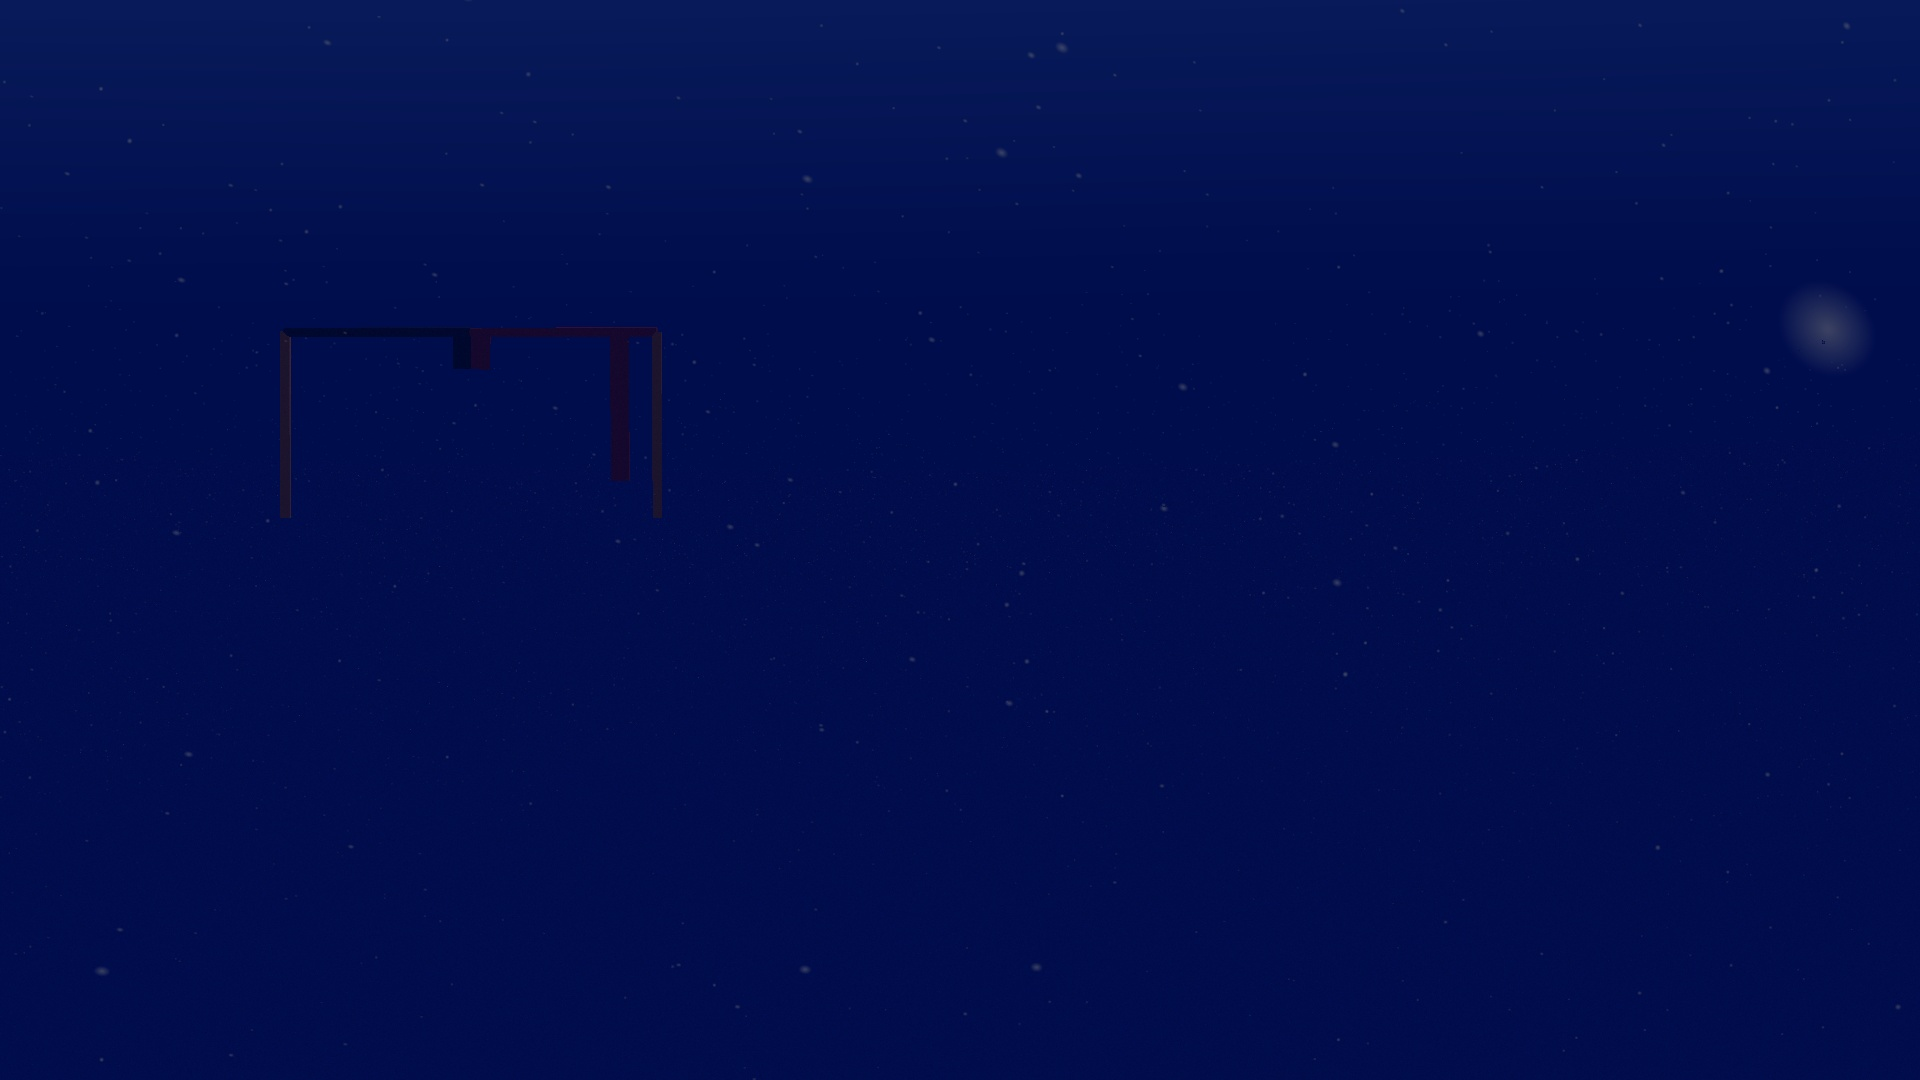Gate: (268, 316, 669, 526)
